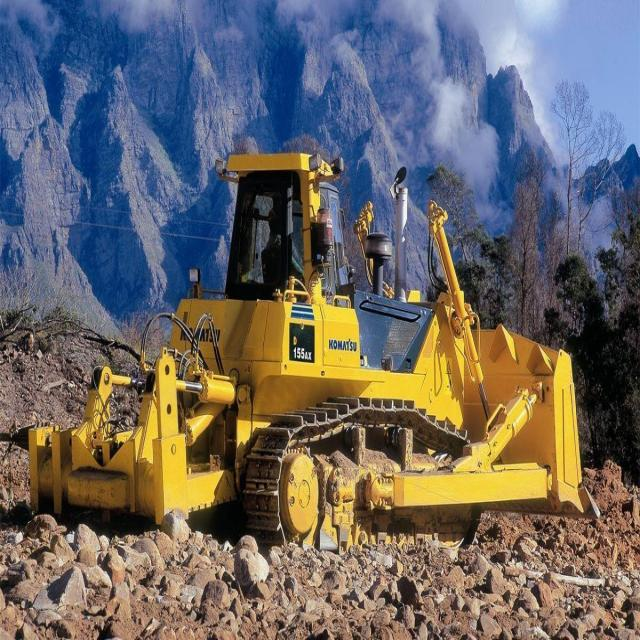Bulldozer: (41, 90, 602, 588)
